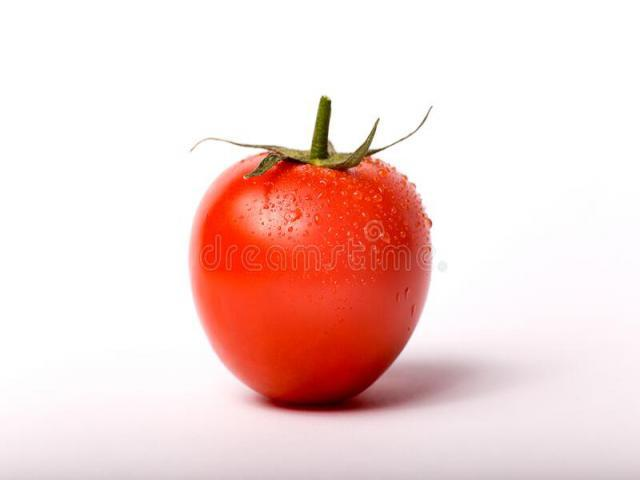tomato: (160, 124, 470, 430)
